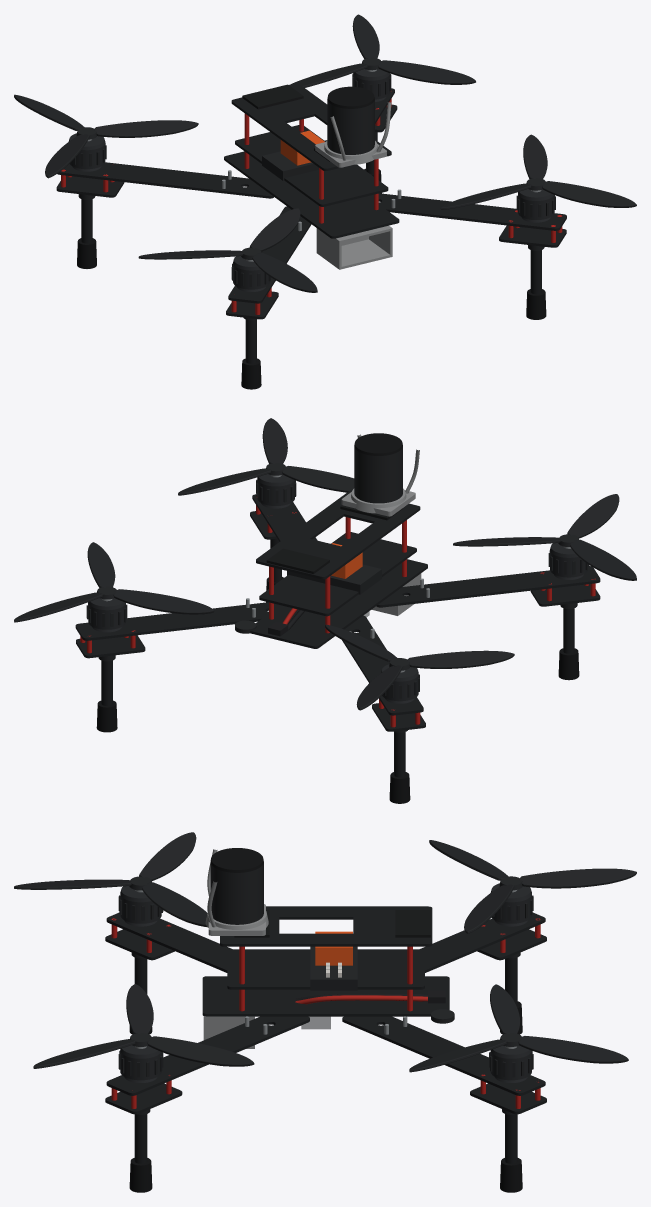
File: specter-10x.glb
The picture shows the model from 3 angles, top to bottom: view 1: azimuth 30°, elevation 25°; view 2: azimuth 150°, elevation 25°; view 3: azimuth 270°, elevation 25°; orthographic projection. The views are drawn at different scales.
Visible parts, largest first — view 1: basePlate, autopilotPlate, armRearLeftBeam, batteryTray, armFrontRightBeam, lidarPuck, armRearLeftBlade1, armRearRightBlade2, armFrontLeftBeam, armFrontRightBlade3, armFrontLeftBlade3, armFrontLeftBlade1 (+21 smaller); view 2: batteryTray, basePlate, autopilotPlate, armFrontLeftBeam, armRearRightBeam, lidarPuck, armRearLeftBeam, armRearLeftBlade3, armRearRightBlade1, armFrontLeftBlade2, armFrontRightBlade2, armFrontLeftBlade3 (+23 smaller); view 3: basePlate, autopilotPlate, batteryTray, armRearRightBeam, armFrontRightBeam, lidarPuck, armFrontLeftBeam, armRearLeftBeam, armRearLeftBlade2, armRearRightBlade3, armFrontRightBlade1, armFrontLeftBlade1 (+27 smaller).
Part boxes in pixels (left/top/right/bottom): basePlate: left=224, top=151, right=399, bottom=238; autopilotPlate: left=235, top=125, right=388, bottom=206; armRearLeftBeam: left=57, top=162, right=273, bottom=198; batteryTray: left=231, top=84, right=391, bottom=170; armFrontRightBeam: left=368, top=193, right=566, bottom=230; lidarPuck: left=327, top=99, right=374, bottom=154; armRearLeftBlade1: left=94, top=120, right=198, bottom=137; armRearRightBlade2: left=378, top=60, right=475, bottom=84; armFrontLeftBeam: left=228, top=206, right=311, bottom=303; armFrontRightBlade3: left=542, top=181, right=636, bottom=207; armFrontLeftBlade3: left=252, top=253, right=317, bottom=292; armFrontLeftBlade1: left=249, top=208, right=300, bottom=251; batteryTray: left=256, top=490, right=420, bottom=579; basePlate: left=250, top=559, right=427, bottom=648; autopilotPlate: left=259, top=532, right=416, bottom=616; armFrontLeftBeam: left=376, top=566, right=600, bottom=607; armRearRightBeam: left=75, top=602, right=279, bottom=640; lidarPuck: left=354, top=447, right=402, bottom=503; armRearLeftBeam: left=342, top=615, right=423, bottom=715; armRearLeftBlade3: left=407, top=650, right=514, bottom=668; armRearRightBlade1: left=113, top=589, right=214, bottom=614; armFrontLeftBlade2: left=570, top=539, right=636, bottom=580; armFrontRightBlade2: left=282, top=466, right=354, bottom=492; armFrontLeftBlade3: left=567, top=494, right=619, bottom=538; basePlate: left=202, top=976, right=449, bottom=1016; autopilotPlate: left=227, top=949, right=424, bottom=989; batteryTray: left=220, top=906, right=432, bottom=946; armRearRightBeam: left=342, top=1016, right=545, bottom=1095; armFrontRightBeam: left=106, top=1016, right=309, bottom=1095; lidarPuck: left=210, top=862, right=263, bottom=924; armFrontLeftBeam: left=106, top=912, right=232, bottom=972; armRearLeftBeam: left=420, top=912, right=545, bottom=972; armRearLeftBlade2: left=519, top=868, right=636, bottom=888; armRearRightBlade3: left=518, top=1036, right=628, bottom=1063; armFrontRightBlade1: left=147, top=1036, right=254, bottom=1066; armFrontLeftBlade1: left=142, top=882, right=207, bottom=927.
Size of the model in its own units: 0.5703 by 0.28 by 0.6304.
